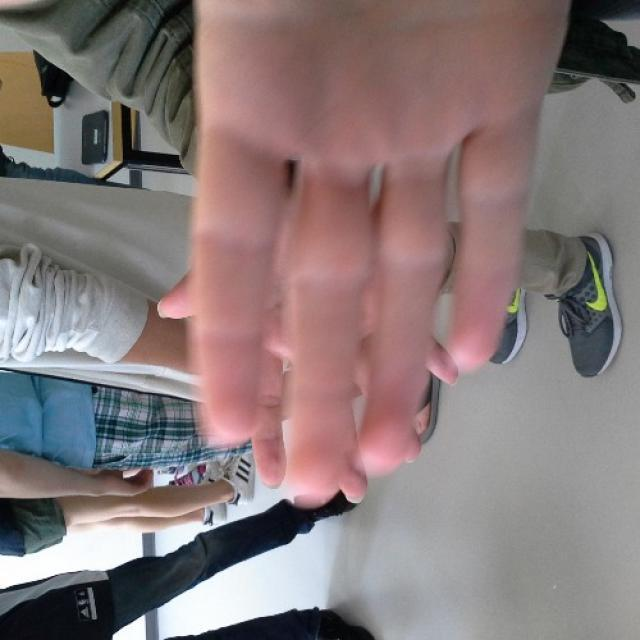paper: (192, 0, 568, 508)
